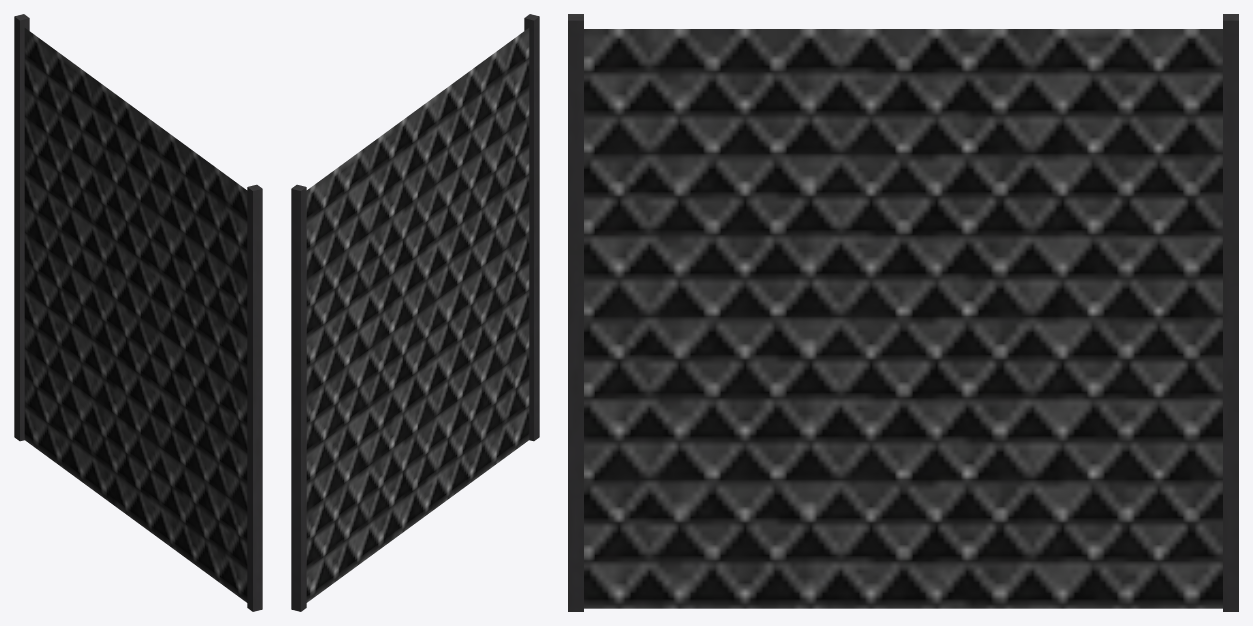
Rendered from fence0.fbx.
The picture shows the model from 3 angles, left to right: view 1: azimuth 30°, elevation 25°; view 2: azimuth 150°, elevation 25°; view 3: azimuth 270°, elevation 25°; orthographic projection. The views are drawn at different scales.
Visible parts, largest first — view 1: fence0; view 2: fence0; view 3: fence0.
Boxes of the visible parts, x1,y1,x2,y2 form: fence0: [14, 14, 262, 611]; fence0: [291, 14, 539, 611]; fence0: [568, 14, 1238, 611].
Bounding box in the file's own units: 5 × 210 × 204.
Materials: 1 (1 with a texture image).
